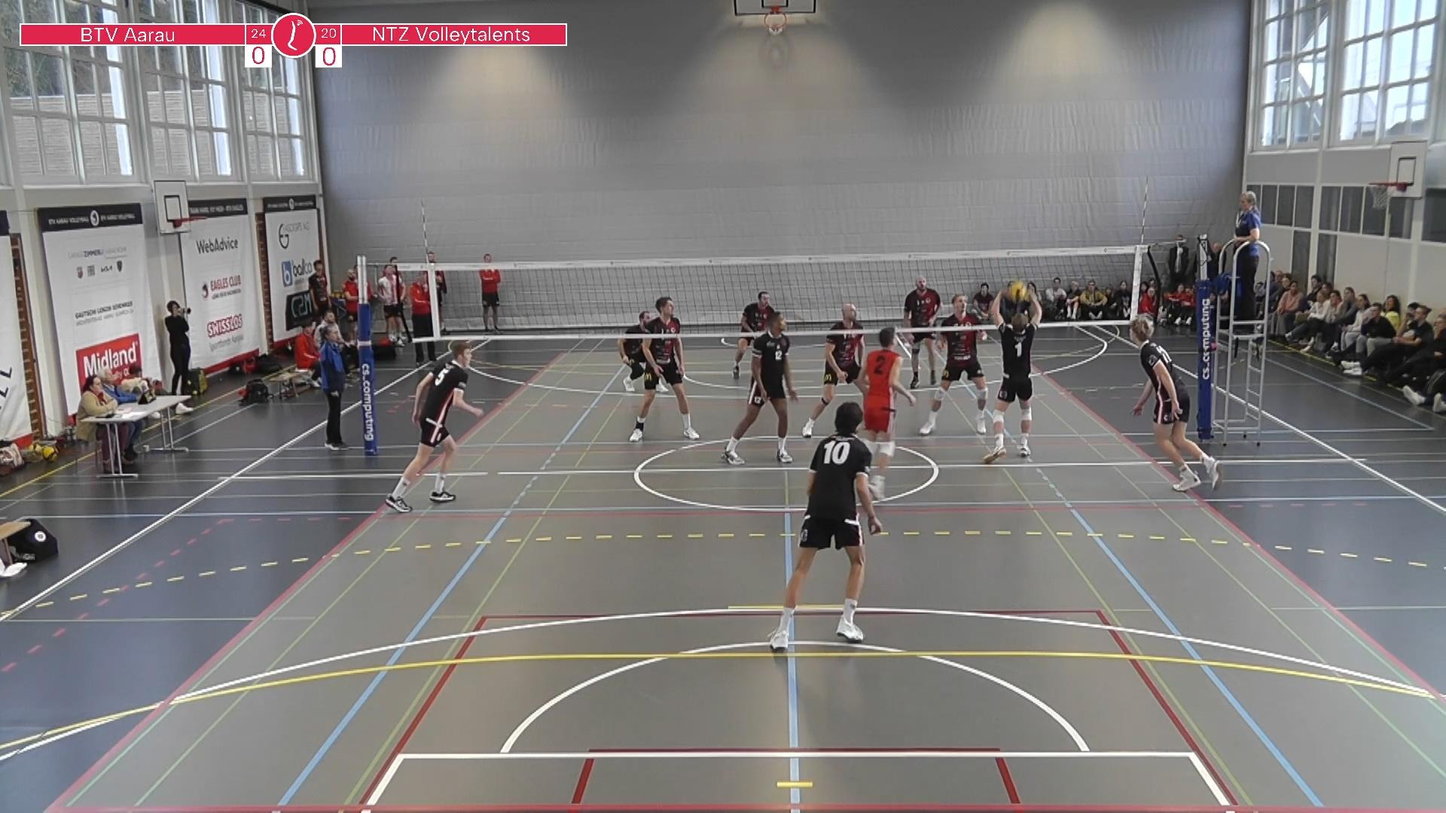alzata: (982, 282, 1044, 463)
